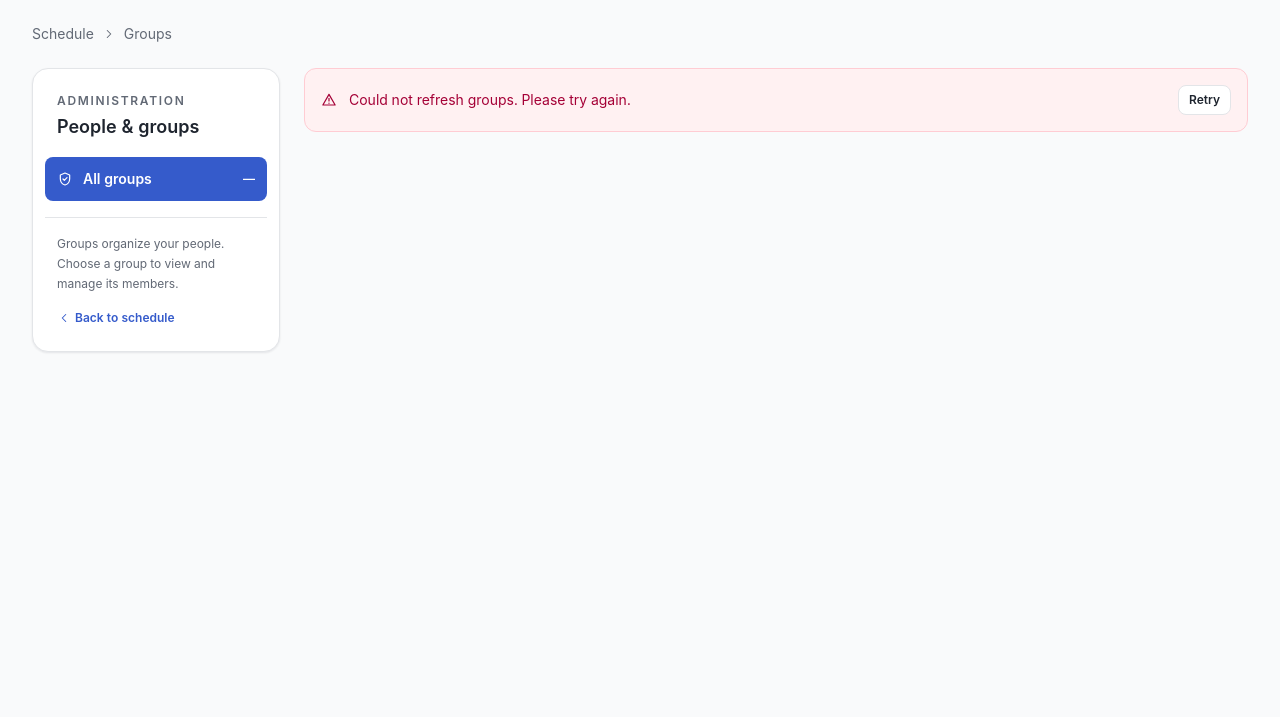
offers retry when loading the directory fails
Expected: the message "Could not refresh groups. Please try again. Retry" is shown, 304,68 -> 1248,132
What coordinates should you click on to do the following:
click the button "Retry"
I would click on:
 (1204, 100)
Its box is 1178,85 -> 1231,115.
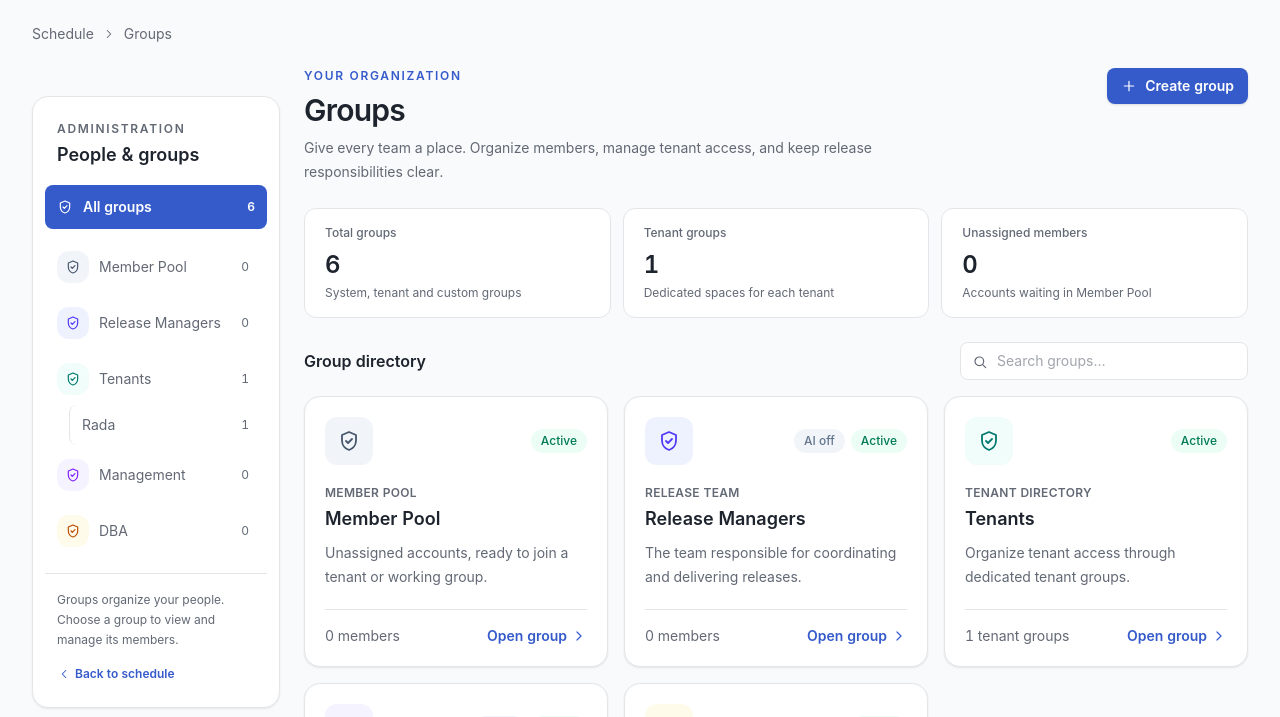
Expected: the heading "Group directory" is shown, 304,349 -> 426,373
